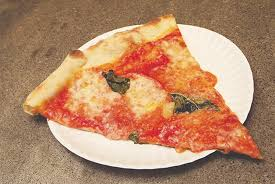pizza: (28, 17, 264, 161)
